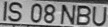0: (30, 3, 42, 24)
8: (43, 2, 56, 24)
B: (76, 3, 92, 26)
I: (1, 1, 8, 23)
N: (60, 2, 76, 26)
S: (9, 1, 22, 22)
U: (92, 5, 107, 27)
